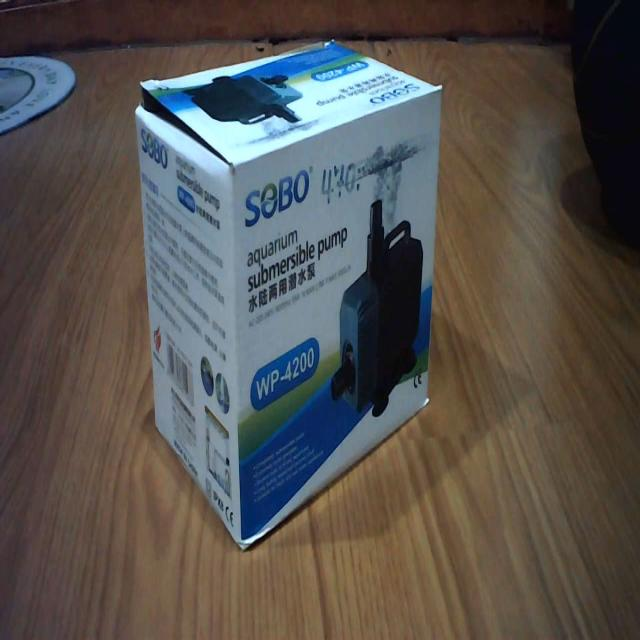SOBO_WP_4200: (133, 29, 447, 564)
